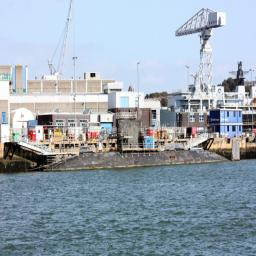submarine: (32, 116, 231, 171)
